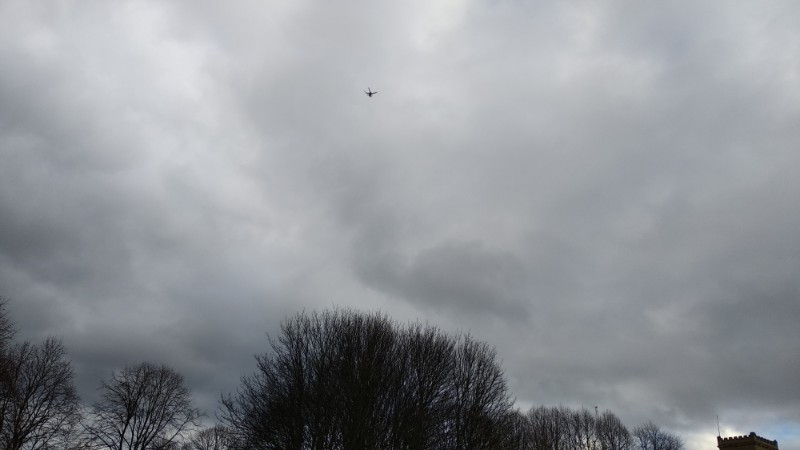drone: (364, 86, 379, 99)
